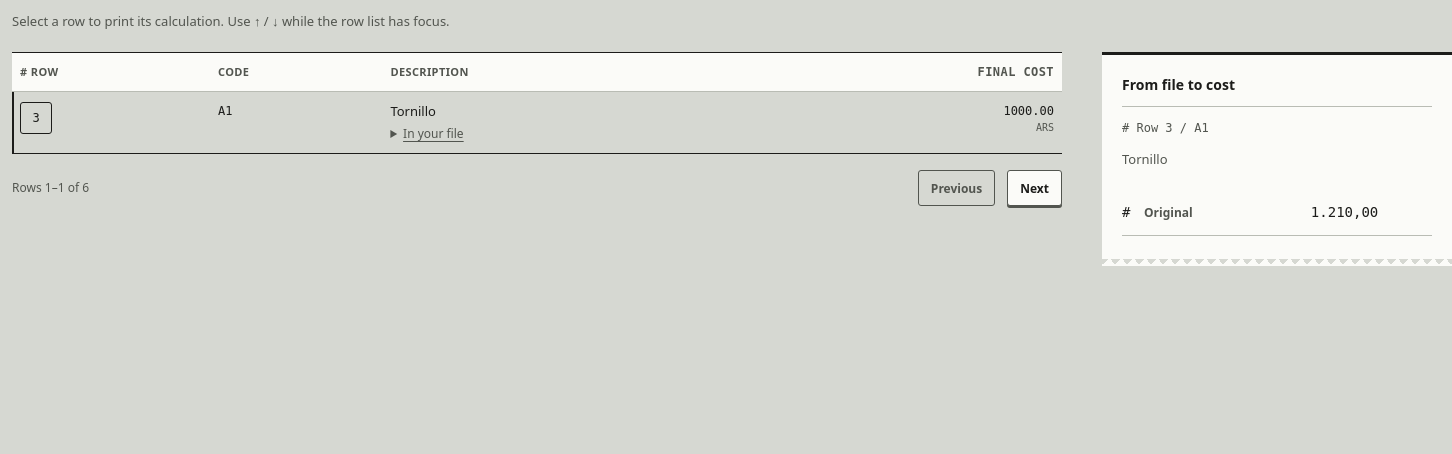
Test: PreviewTable › shows the file row and original cells in the journal, with every step and final cost on the selected tape
Click the heading "In your file": [433, 134] box [403,125,464,142]
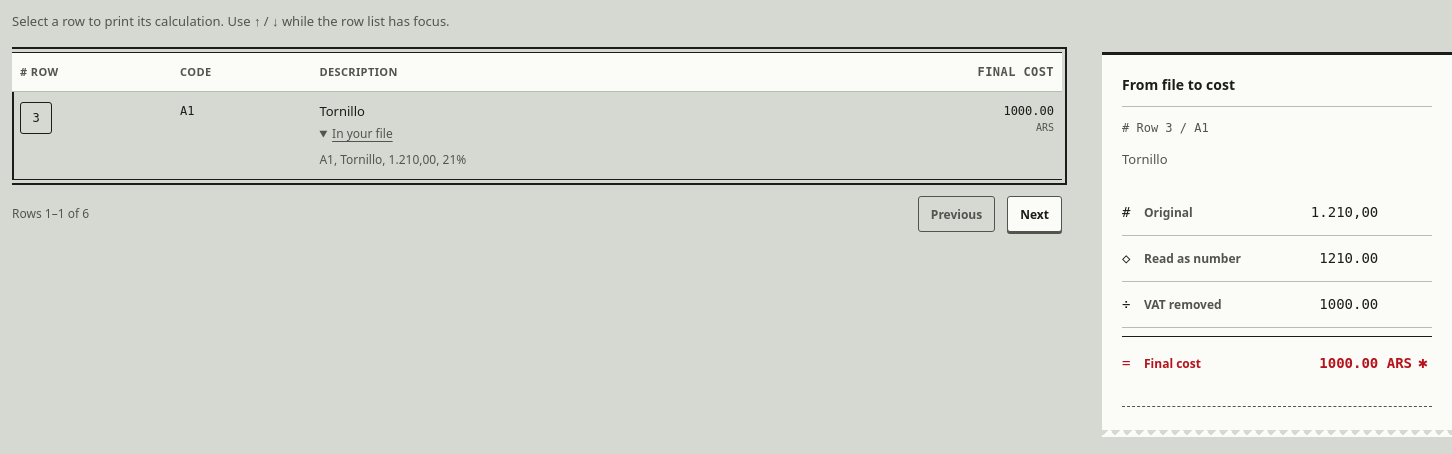
Expected: the text "A1, Tornillo, 1.210,00, 21%" is shown, [319,151,466,168]
Expected: the text "VAT removed" is shown, [1144,296,1222,313]
Expected: the text "1000.00 ARS" is shown, [1319,353,1412,374]
